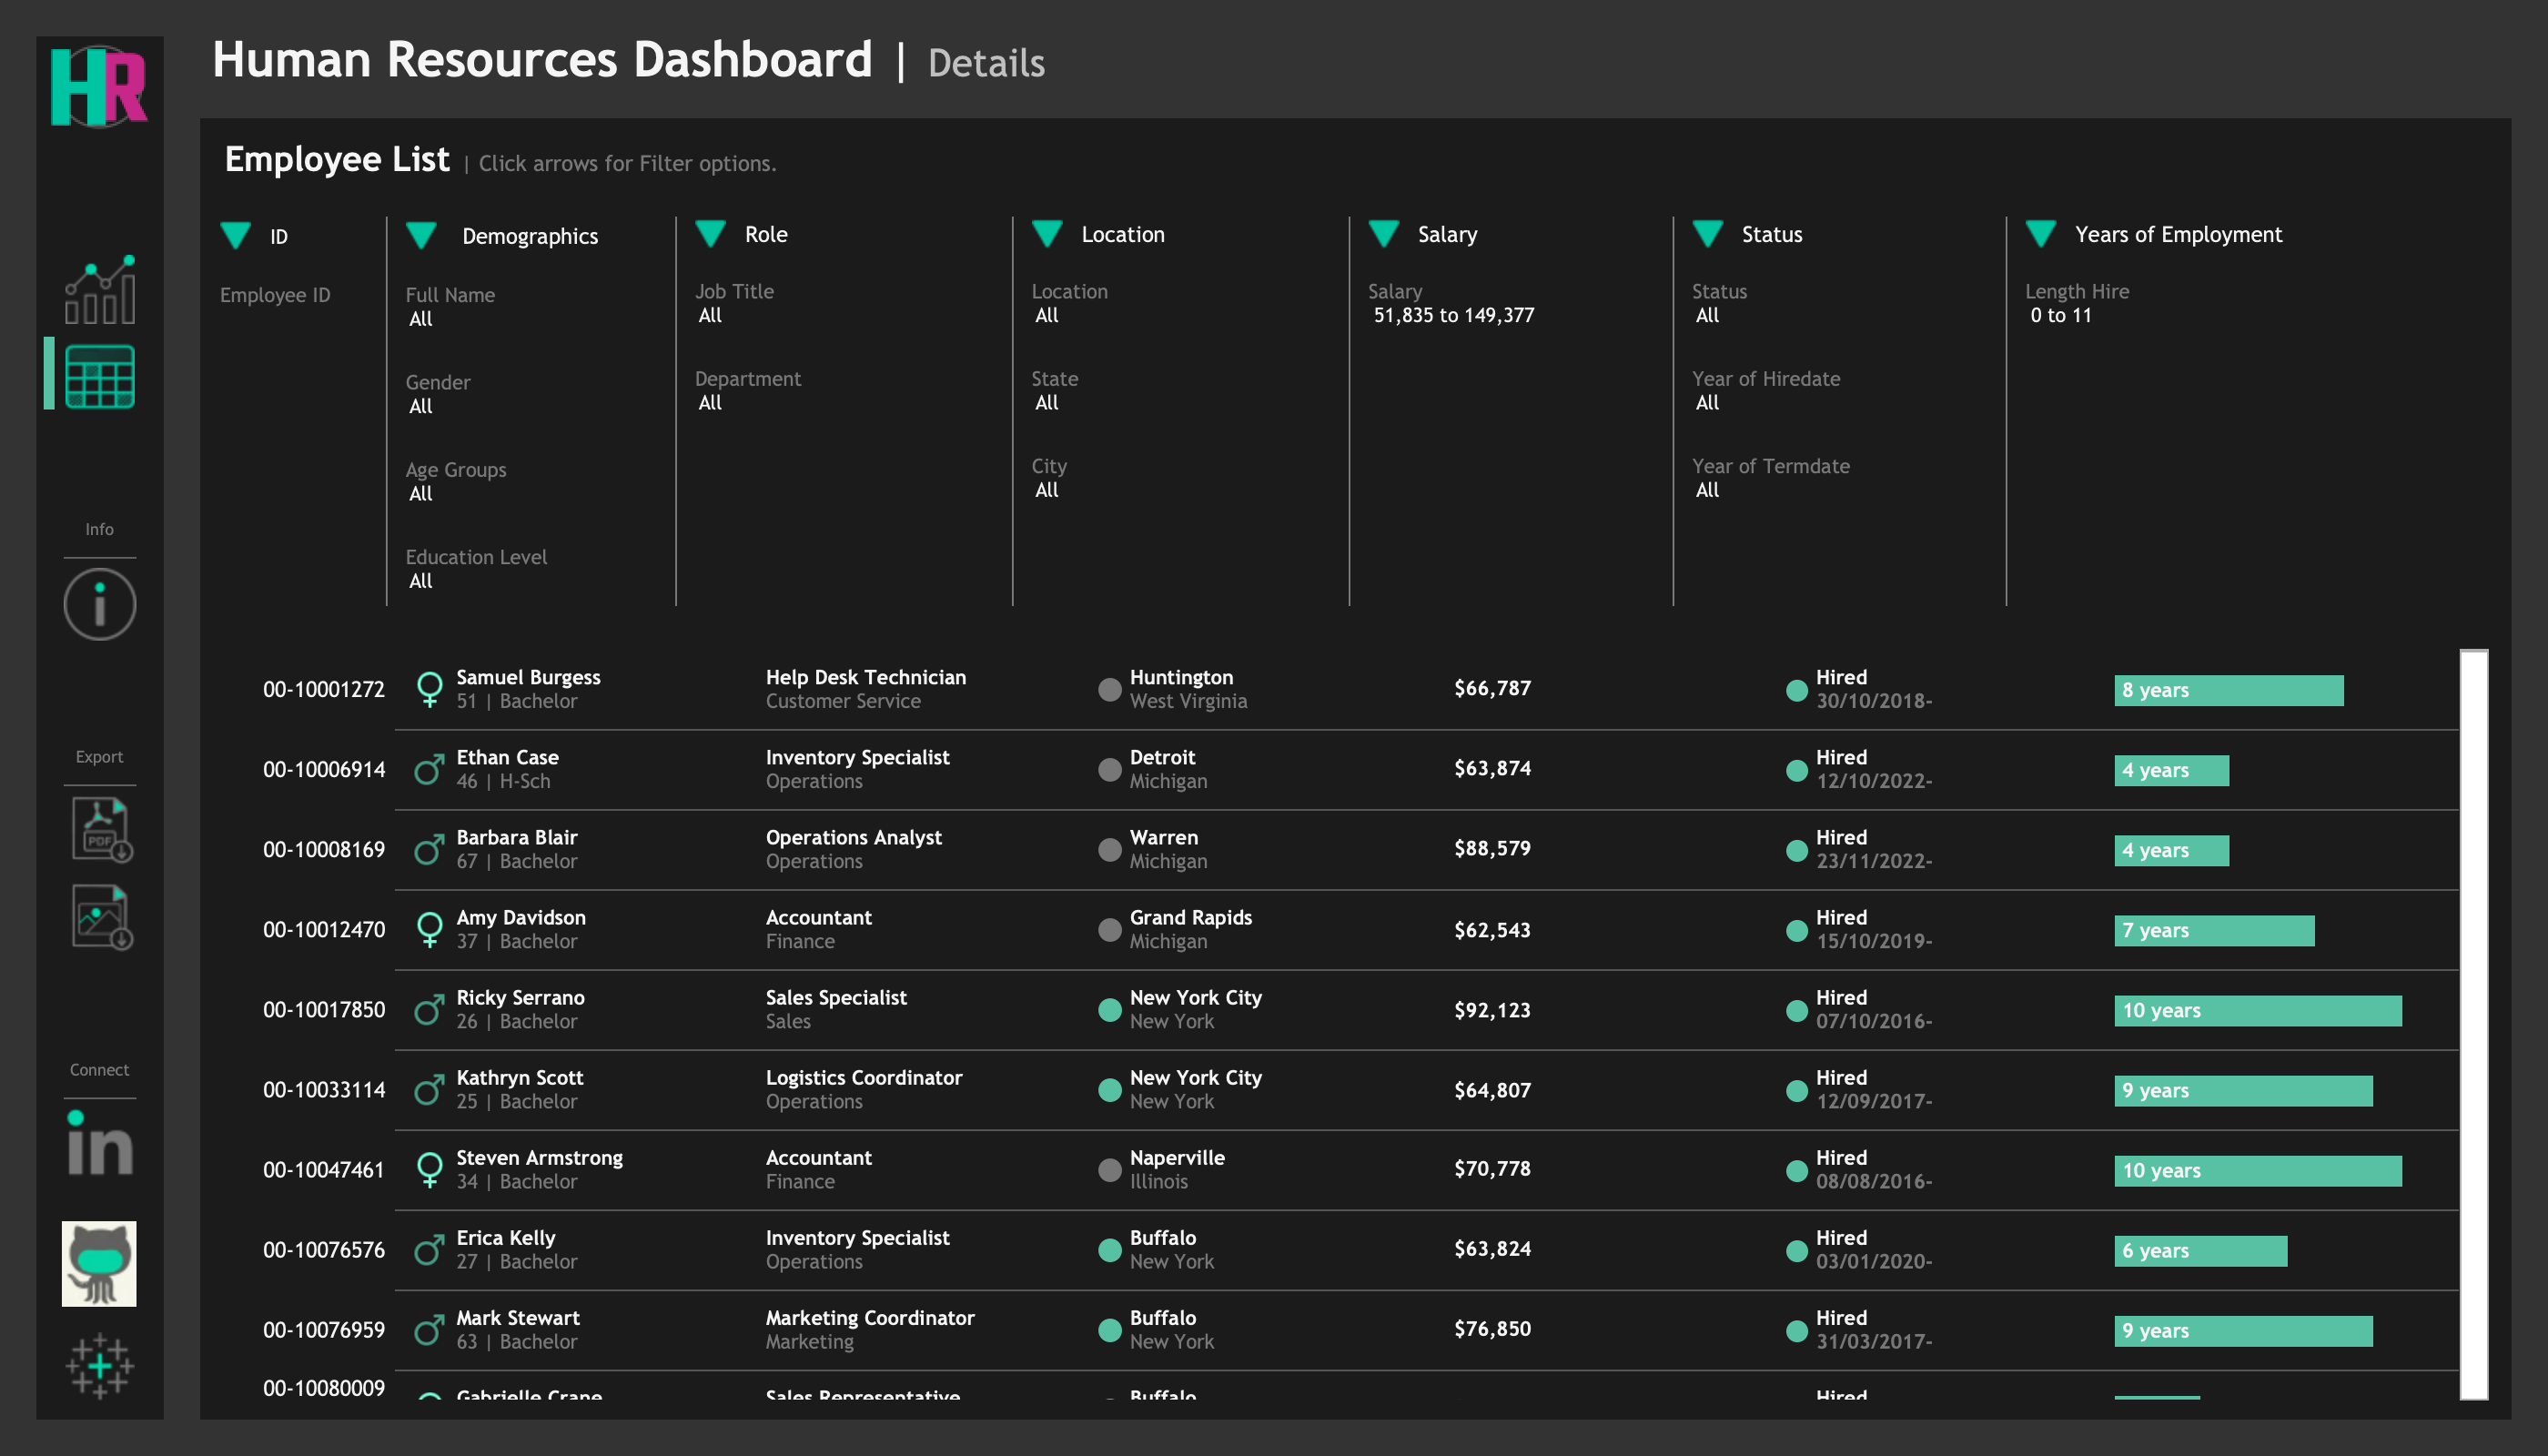

This screenshot's page, from the dashboard's own definition file:
{"tool":"tableau","page":{"name":"HR | Details","canvas":[1400,800],"ordinal":0},"visuals":[{"type":"text","box":[89,0,1312,533]},{"type":"text","box":[110,0,673,65]},{"type":"blank","box":[783,0,597,65]},{"type":"image","param":"Image/Logo.png","box":[20,20,70,55]},{"type":"text","box":[117,72,1256,37]},{"type":"blank","box":[30,85,50,54.8]},{"type":"dashboard-object","box":[117,109,25,42]},{"type":"text","box":[142,109,64,42]},{"type":"blank","box":[206,109,13,42]},{"type":"dashboard-object","box":[219,109,25,42]},{"type":"text","box":[244,109,121,42]},{"type":"blank","box":[365,109,13,42]},{"type":"dashboard-object","box":[378,109,25,40]},{"type":"text","box":[403,109,147,40]},{"type":"blank","box":[550,109,13,42]},{"type":"dashboard-object","box":[563,109,25,40]},{"type":"text","box":[588,109,147,40]},{"type":"blank","box":[735,109,13,42]},{"type":"dashboard-object","box":[748,109,25,40]},{"type":"text","box":[773,109,140,40]},{"type":"blank","box":[913,109,13,42]},{"type":"dashboard-object","box":[926,109,25,40]},{"type":"text","box":[951,109,145,40]},{"type":"blank","box":[1096,109,13,42]},{"type":"dashboard-object","box":[1109,109,25,40]},{"type":"text","box":[1134,109,239,40]},{"type":"dashboard-object","box":[30,139.8,50,38]},{"type":"filter","title":"Detailed","param":"[federated.0d477l70sej0ka1g44ftb0snqjpt].[none:Job Title:nk]","box":[378,149,172,48]},{"type":"filter","title":"Detailed","param":"[federated.0d477l70sej0ka1g44ftb0snqjpt].[none:Calculation_1904285567377417:nk]","box":[563,149,172,48]},{"type":"filter","title":"Detailed","param":"[federated.0d477l70sej0ka1g44ftb0snqjpt].[sum:Salary:qk]","box":[748,149,165,65]},{"type":"filter","title":"Detailed","param":"[federated.0d477l70sej0ka1g44ftb0snqjpt].[none:Calculation_1904285849620494:nk]","box":[926,149,170,48]},{"type":"filter","title":"Detailed","param":"[federated.0d477l70sej0ka1g44ftb0snqjpt].[sum:Calculation_1904286203605021:qk]","box":[1109,149,264,65]},{"type":"filter","title":"Detailed","param":"[federated.0d477l70sej0ka1g44ftb0snqjpt].[none:Employee_ID:nk]","box":[117,151,89,49]},{"type":"filter","title":"Detailed","param":"[federated.0d477l70sej0ka1g44ftb0snqjpt].[none:Calculation_1904286196981788:nk]","box":[219,151,146,48]},{"type":"worksheet","title":"Detailed","mark":"Shape","rows":["Employee_ID"],"cols":["Calculation_1904286196506651","Calculation_1904286196506651","Calculation_1904286196506651","Calculation_1904286196506651","Calculation_1904286196506651","Calculation_1904286203605021"],"box":[117,161,1256,612]},{"type":"blank","box":[30,177.8,50,10]},{"type":"blank","box":[24,185,6,40]},{"type":"dashboard-object","box":[30,187.8,50,38]},{"type":"filter","title":"Detailed","param":"[federated.0d477l70sej0ka1g44ftb0snqjpt].[none:Department:nk]","box":[378,197,172,48]},{"type":"filter","title":"Detailed","param":"[federated.0d477l70sej0ka1g44ftb0snqjpt].[none:State:nk]","box":[563,197,172,48]},{"type":"filter","title":"Detailed","param":"[federated.0d477l70sej0ka1g44ftb0snqjpt].[yr:Hiredate:ok]","box":[926,197,170,48]},{"type":"filter","title":"Detailed","param":"[federated.0d477l70sej0ka1g44ftb0snqjpt].[none:Gender:nk]","box":[219,199,146,48]},{"type":"blank","box":[30,225.8,50,54.8]},{"type":"filter","title":"Detailed","param":"[federated.0d477l70sej0ka1g44ftb0snqjpt].[none:City:nk]","box":[563,245,172,48]},{"type":"filter","title":"Detailed","param":"[federated.0d477l70sej0ka1g44ftb0snqjpt].[yr:Termdate:ok]","box":[926,245,170,48]},{"type":"filter","title":"Detailed","param":"[federated.0d477l70sej0ka1g44ftb0snqjpt].[none:Calculation_1904285577420813:nk]","box":[219,247,146,48]},{"type":"text","box":[30,280.6,50,20]},{"type":"filter","title":"Detailed","param":"[federated.0d477l70sej0ka1g44ftb0snqjpt].[none:Education Level:nk]","box":[219,295,146,48]},{"type":"blank","box":[30,300.6,50,11]},{"type":"dashboard-object","box":[30,311.6,50,40]},{"type":"blank","box":[30,351.6,50,54.8]},{"type":"text","box":[30,406.4,50,20]},{"type":"blank","box":[30,426.4,50,11]},{"type":"dashboard-object","box":[30,437.4,50,38]},{"type":"blank","box":[30,475.4,50,10]},{"type":"dashboard-object","box":[30,485.4,50,38]},{"type":"blank","box":[30,523.4,50,54.8]},{"type":"text","box":[30,578.2,50,20]},{"type":"blank","box":[30,598.2,50,11]},{"type":"image","param":"Image/contact-linkedin.png","box":[30,609.2,50,38]},{"type":"blank","box":[30,647.2,50,20]},{"type":"image","param":"Image/Screenshot 2026-05-12 at 10.55.49.png","box":[30,667.2,50,54.8]},{"type":"blank","box":[30,722,50,10]},{"type":"image","param":"Image/contact-public.png","box":[30,732,50,38]}]}

Visuals, with their boxes on the page's 1400x800 design canvas (x1, y1, x2, y2). These are canvas units, not pixel positions in the 2548x1456 screenshot, which may show the page scaled, cropped or inside an application window:
text: Rect(89, 0, 1401, 533)
text: Rect(110, 0, 783, 65)
blank: Rect(783, 0, 1380, 65)
image: Rect(20, 20, 90, 75)
text: Rect(117, 72, 1373, 109)
blank: Rect(30, 85, 80, 140)
dashboard-object: Rect(117, 109, 142, 151)
text: Rect(142, 109, 206, 151)
blank: Rect(206, 109, 219, 151)
dashboard-object: Rect(219, 109, 244, 151)
text: Rect(244, 109, 365, 151)
blank: Rect(365, 109, 378, 151)
dashboard-object: Rect(378, 109, 403, 149)
text: Rect(403, 109, 550, 149)
blank: Rect(550, 109, 563, 151)
dashboard-object: Rect(563, 109, 588, 149)
text: Rect(588, 109, 735, 149)
blank: Rect(735, 109, 748, 151)
dashboard-object: Rect(748, 109, 773, 149)
text: Rect(773, 109, 913, 149)
blank: Rect(913, 109, 926, 151)
dashboard-object: Rect(926, 109, 951, 149)
text: Rect(951, 109, 1096, 149)
blank: Rect(1096, 109, 1109, 151)
dashboard-object: Rect(1109, 109, 1134, 149)
text: Rect(1134, 109, 1373, 149)
dashboard-object: Rect(30, 140, 80, 178)
"Detailed" filter: Rect(378, 149, 550, 197)
"Detailed" filter: Rect(563, 149, 735, 197)
"Detailed" filter: Rect(748, 149, 913, 214)
"Detailed" filter: Rect(926, 149, 1096, 197)
"Detailed" filter: Rect(1109, 149, 1373, 214)
"Detailed" filter: Rect(117, 151, 206, 200)
"Detailed" filter: Rect(219, 151, 365, 199)
"Detailed" worksheet (Shape marks): Rect(117, 161, 1373, 773)
blank: Rect(30, 178, 80, 188)
blank: Rect(24, 185, 30, 225)
dashboard-object: Rect(30, 188, 80, 226)
"Detailed" filter: Rect(378, 197, 550, 245)
"Detailed" filter: Rect(563, 197, 735, 245)
"Detailed" filter: Rect(926, 197, 1096, 245)
"Detailed" filter: Rect(219, 199, 365, 247)
blank: Rect(30, 226, 80, 281)
"Detailed" filter: Rect(563, 245, 735, 293)
"Detailed" filter: Rect(926, 245, 1096, 293)
"Detailed" filter: Rect(219, 247, 365, 295)
text: Rect(30, 281, 80, 301)
"Detailed" filter: Rect(219, 295, 365, 343)
blank: Rect(30, 301, 80, 312)
dashboard-object: Rect(30, 312, 80, 352)
blank: Rect(30, 352, 80, 406)
text: Rect(30, 406, 80, 426)
blank: Rect(30, 426, 80, 437)
dashboard-object: Rect(30, 437, 80, 475)
blank: Rect(30, 475, 80, 485)
dashboard-object: Rect(30, 485, 80, 523)
blank: Rect(30, 523, 80, 578)
text: Rect(30, 578, 80, 598)
blank: Rect(30, 598, 80, 609)
image: Rect(30, 609, 80, 647)
blank: Rect(30, 647, 80, 667)
image: Rect(30, 667, 80, 722)
blank: Rect(30, 722, 80, 732)
image: Rect(30, 732, 80, 770)
